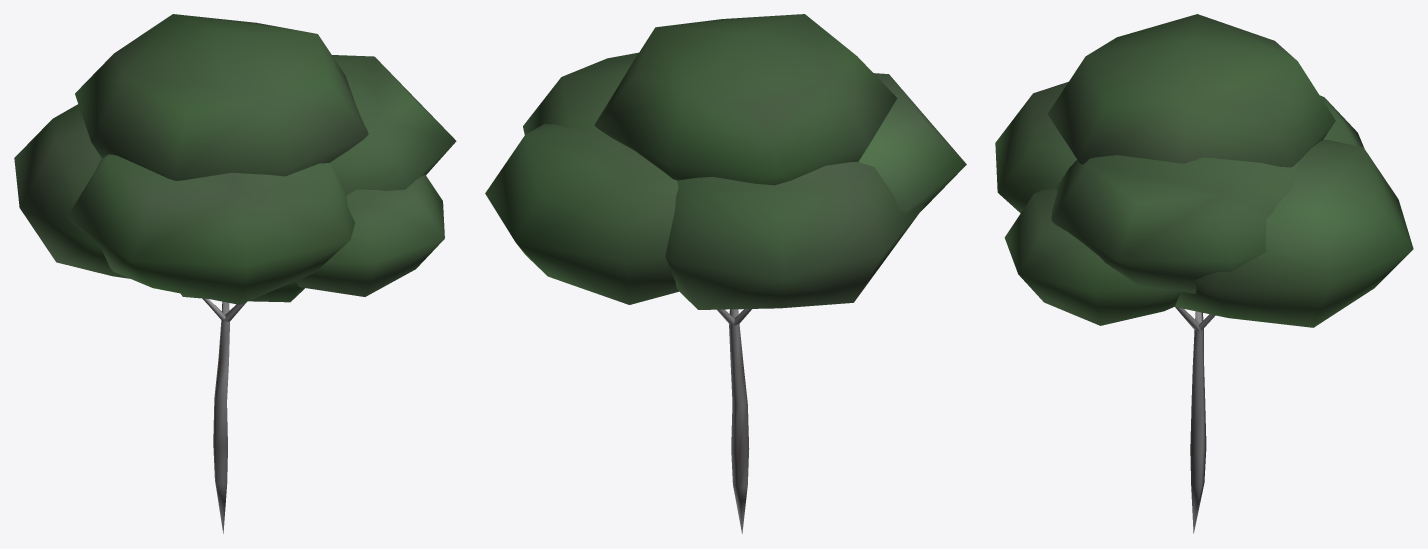
The model's file is trees-broadleaf-trees-spreading-leafy-tree_v1.glb.
The picture shows the model from 3 angles, left to right: view 1: azimuth 30°, elevation 25°; view 2: azimuth 150°, elevation 25°; view 3: azimuth 270°, elevation 25°; orthographic projection.
Parts seen in each view (by area): view 1: Spreading Leafy Tree_v1; view 2: Spreading Leafy Tree_v1; view 3: Spreading Leafy Tree_v1.
Part boxes in pixels (x1,y1,x2,y2): Spreading Leafy Tree_v1: [14, 14, 456, 533]; Spreading Leafy Tree_v1: [485, 14, 966, 533]; Spreading Leafy Tree_v1: [995, 14, 1413, 533].
Bounding box in the file's own units: 7.77 × 10 × 7.68.
